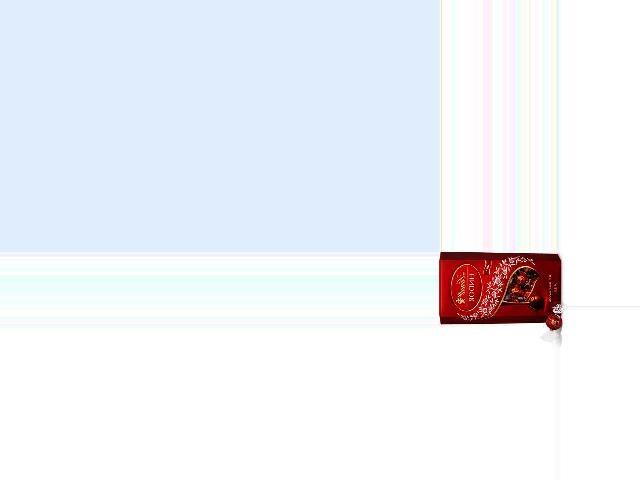chocolate: (439, 253, 560, 331)
